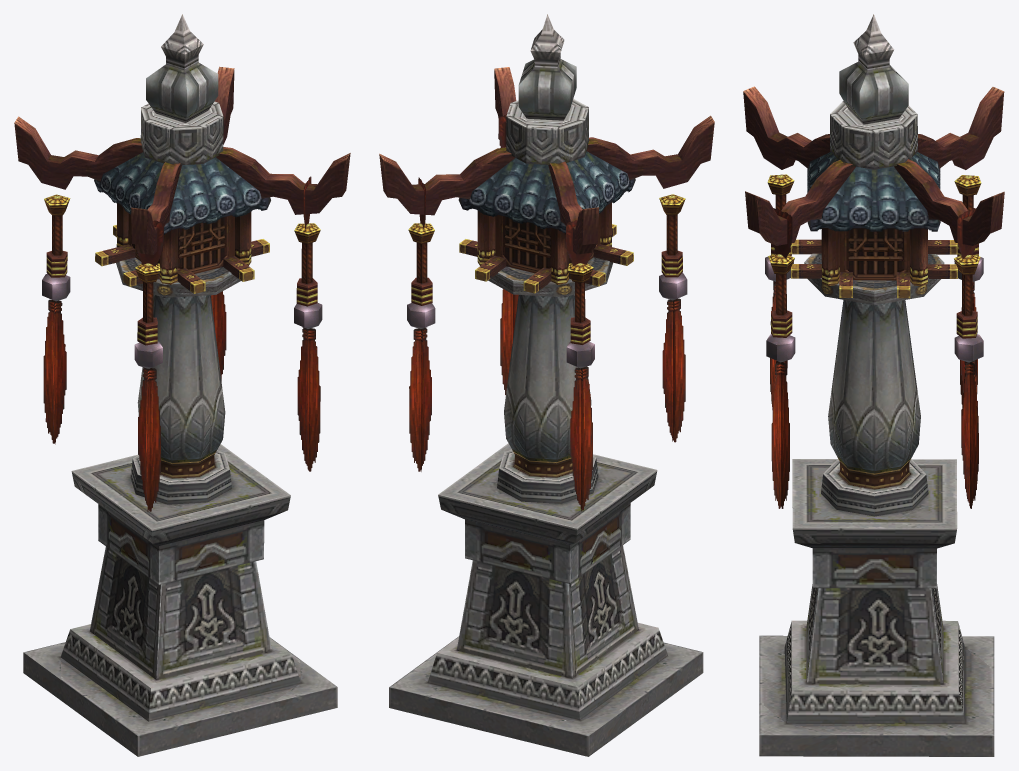
File: Hangzhou_wj_025.FBX
3 views of the same model, side by side, from view 1: azimuth 30°, elevation 25°; view 2: azimuth 150°, elevation 25°; view 3: azimuth 270°, elevation 25° (orthographic). The views are drawn at different scales.
Parts seen in each view (by area): view 1: DrawCall_0177; view 2: DrawCall_0177; view 3: DrawCall_0177.
Part boxes in pixels (x1,y1,x2,y2): DrawCall_0177: [14, 14, 350, 756]; DrawCall_0177: [379, 14, 714, 756]; DrawCall_0177: [743, 14, 1004, 756].
Size of the model in its own units: 65.21 by 191 by 65.4.
